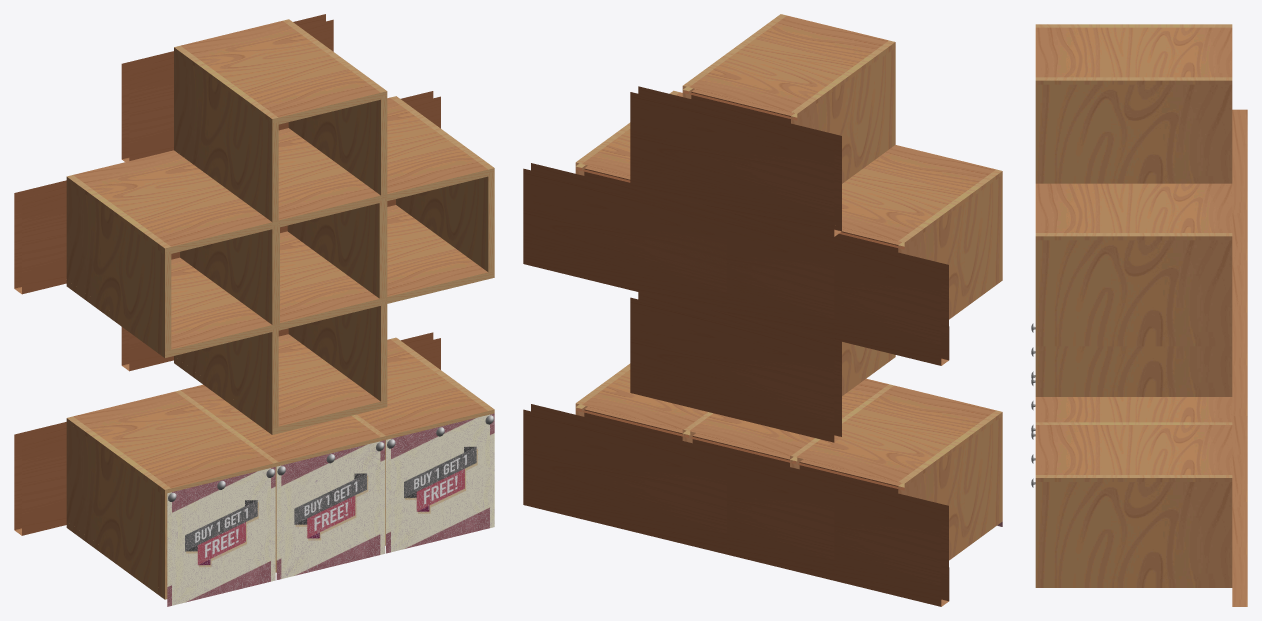
The model's file is layout_poster_plusminus_shape_c11.fbx.
3 renders of one model, left to right at view 1: azimuth 30°, elevation 25°; view 2: azimuth 150°, elevation 25°; view 3: azimuth 270°, elevation 25°, orthographic.
Parts seen in each view (by area): view 1: Mesh-Poster-Small01 1, Mesh-Poster-Small01 2, Mesh-Poster-Small01, Shelf-TM-00 5, Shelf-TM-00 7, Shelf-CL-01 7, Shelf-CL-01 5, Shelf-TM-00 6, Shelf-CL-01 6, Shelf-Back-00 (1) 5, Shelf-TM-00, Shelf-BM-00 3 (+30 smaller); view 2: Shelf-Back-00 (1) 5, Shelf-Back-00 (1) 3, Shelf-Back-00 (1) 1, Shelf-Back-00 (1), Shelf-Back-00 (1) 4, Shelf-Back-00 (1) 7, Shelf-Back-00 (1) 6, Shelf-Back-00 (1) 2, Shelf-TM-00 5, Shelf-TM-00 6, Shelf-TM-00 7, Shelf-CL-01 6 (+14 smaller); view 3: Shelf-CR-01 1, Shelf-CR-01 5, Shelf-CR-01, Shelf-TM-00 5, Shelf-TM-00, Shelf-TM-00 1, Shelf-CR-01 3, Shelf-TM-00 2, Shelf-Back-00 (1) 5, Shelf-CR-00 (1) 5, Shelf-CR-00 1, Shelf-CR-00 (1) 1 (+12 smaller).
Boxes of the visible parts, box(x1,y1,x2,y2) form: Mesh-Poster-Small01 1: box(276, 440, 385, 579); Mesh-Poster-Small01 2: box(386, 413, 494, 553); Mesh-Poster-Small01: box(167, 467, 275, 606); Shelf-TM-00 5: box(181, 21, 380, 124); Shelf-TM-00 7: box(73, 150, 272, 253); Shelf-CL-01 7: box(66, 181, 171, 350); Shelf-CL-01 5: box(174, 51, 278, 221); Shelf-TM-00 6: box(73, 391, 272, 492); Shelf-CL-01 6: box(66, 422, 167, 592); Shelf-Back-00 (1) 5: box(121, 14, 333, 161); Shelf-TM-00: box(357, 339, 488, 439); Shelf-BM-00 3: box(278, 334, 380, 433); Shelf-Back-00 (1) 5: box(630, 86, 841, 236); Shelf-Back-00 (1) 3: box(630, 292, 841, 442); Shelf-Back-00 (1) 1: box(523, 163, 734, 313); Shelf-Back-00 (1): box(523, 404, 734, 554); Shelf-Back-00 (1) 4: box(630, 189, 841, 339); Shelf-Back-00 (1) 7: box(737, 216, 949, 365); Shelf-Back-00 (1) 6: box(739, 457, 949, 606); Shelf-Back-00 (1) 2: box(630, 430, 841, 580); Shelf-TM-00 5: box(689, 15, 888, 118); Shelf-TM-00 6: box(796, 385, 995, 488); Shelf-TM-00 7: box(839, 145, 995, 247); Shelf-CL-01 6: box(898, 416, 1002, 553); Shelf-CR-01 1: box(1035, 240, 1232, 339); Shelf-CR-01 5: box(1035, 84, 1232, 183); Shelf-CR-01: box(1035, 482, 1232, 580); Shelf-TM-00 5: box(1035, 27, 1232, 77); Shelf-TM-00: box(1035, 425, 1232, 474); Shelf-TM-00 1: box(1035, 183, 1232, 232); Shelf-CR-01 3: box(1035, 346, 1232, 389); Shelf-TM-00 2: box(1035, 397, 1232, 422); Shelf-Back-00 (1) 5: box(1232, 109, 1247, 209); Shelf-CR-00 (1) 5: box(1035, 77, 1232, 84); Shelf-CR-00 1: box(1035, 339, 1232, 346); Shelf-CR-00 (1) 1: box(1035, 233, 1232, 240).
Bounding box in the file's own units: 197 × 207 × 88.07.
